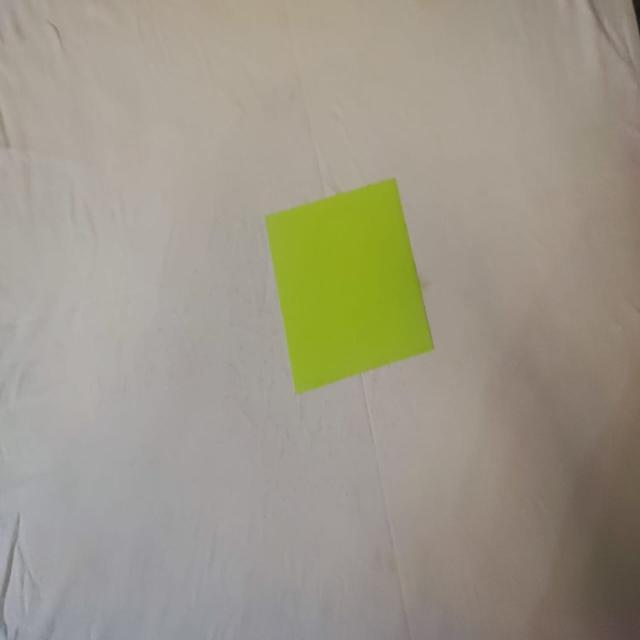Box: (264, 179, 436, 397)
